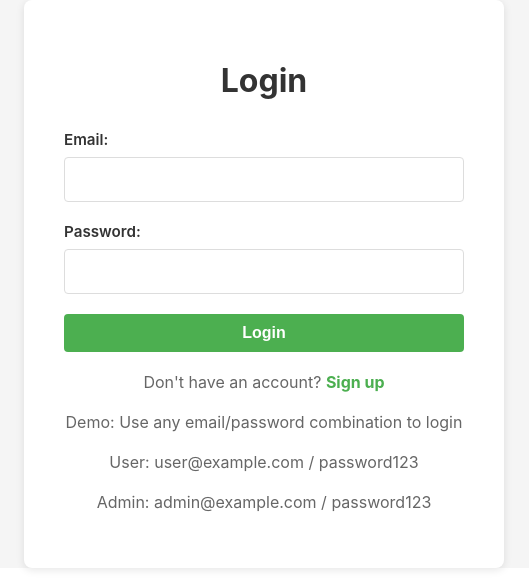
LoginPage › Positive Scenarios › shows 'Logging in...' text on button while request is in flight
Type "user@example.com" into the field labelled "Email:".
click(264, 180); type("user@example.com")  # box top-left (64, 157), bottom-right (464, 202)
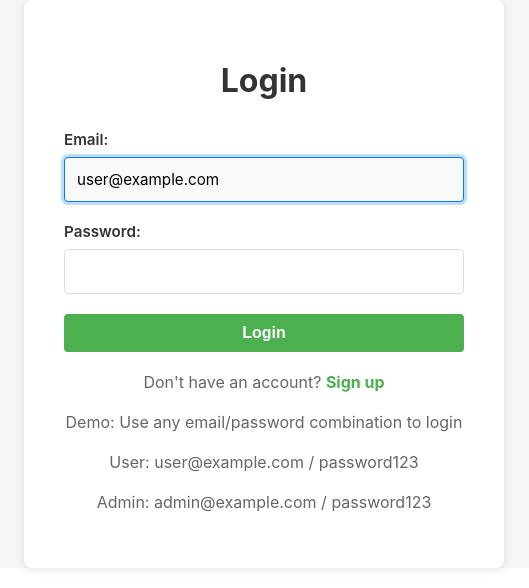
Type "password123" into the password field labelled "Password:".
click(264, 272); type("password123")  # box top-left (64, 249), bottom-right (464, 294)
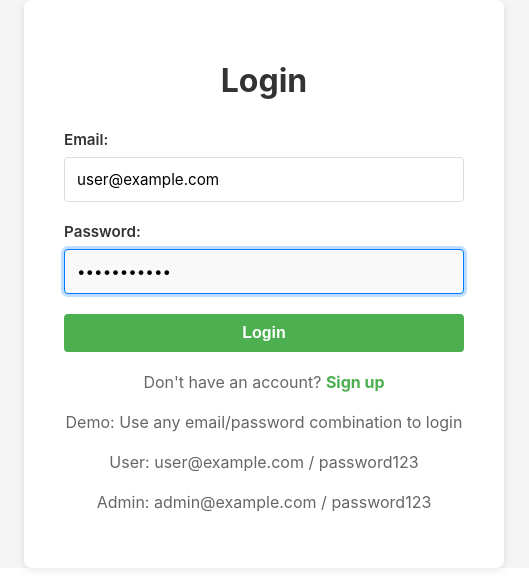
Click the button "Login".
click(264, 333)  # box top-left (64, 314), bottom-right (464, 352)
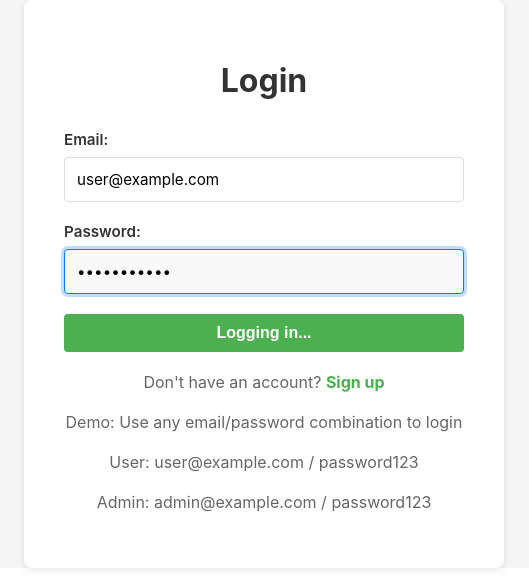
Result: the button "Logging in..." is shown at top-left (64, 314), bottom-right (464, 352)
